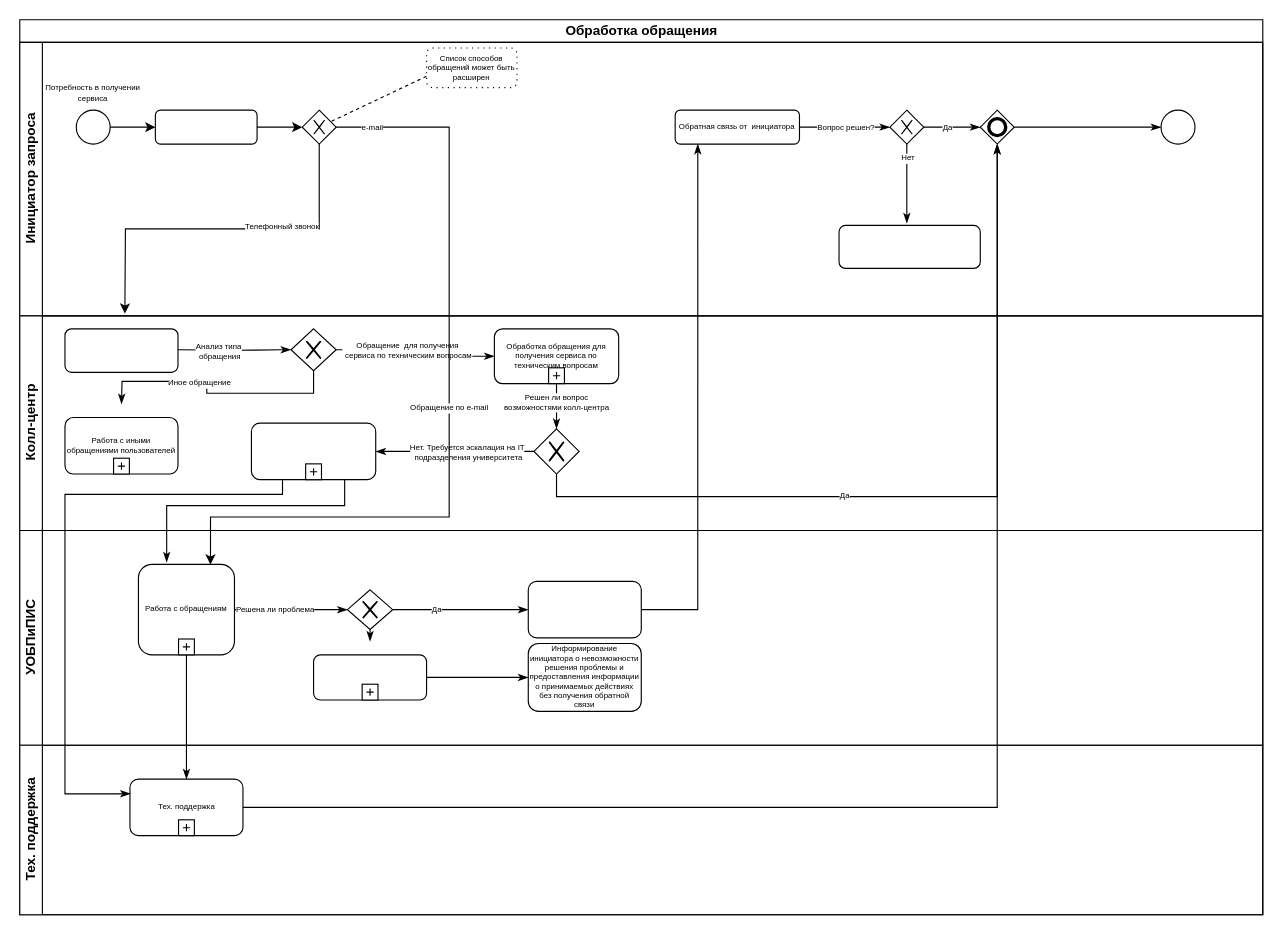
Image size: 1283x935. Some labels were removed from this diagram. The shapes that lost their labels are listed below. From the top down, each one's centre as x and y in pixels, then its label:
At pixel 205 126: "Выбор способа обращения".
At pixel 909 246: "Возврат запроса на доработку".
At pixel 121 350: "Прием входящего звонка".
At pixel 313 451: "Эскалация процесса на IT подразделения университета".
At pixel 584 609: "Информирование инициатора о завершении работ по его обращению".
At pixel 369 677: "Запуск процесса для работы с отклонениями".
